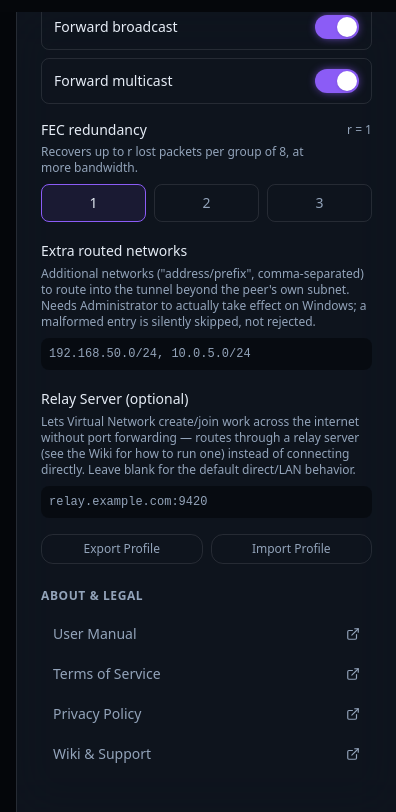
Test: SettingsOverlay — JSON profile import/export › shows an inline error and leaves the store untouched for a malformed profile
The width and height of the screenshot is (396, 812).
(page scrolled)
Click the button with test id "settings-import-profile" at (291, 549), box [210,534,372,564]
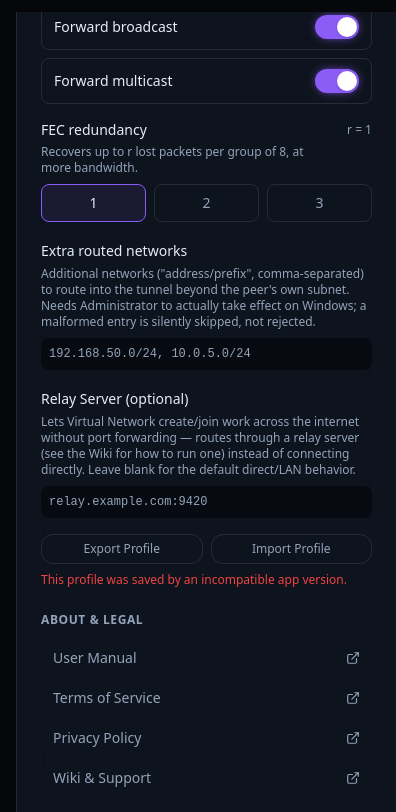
expect the text "This profile was saved by an incompatible app version." is shown: met, box [41,572,372,588]
